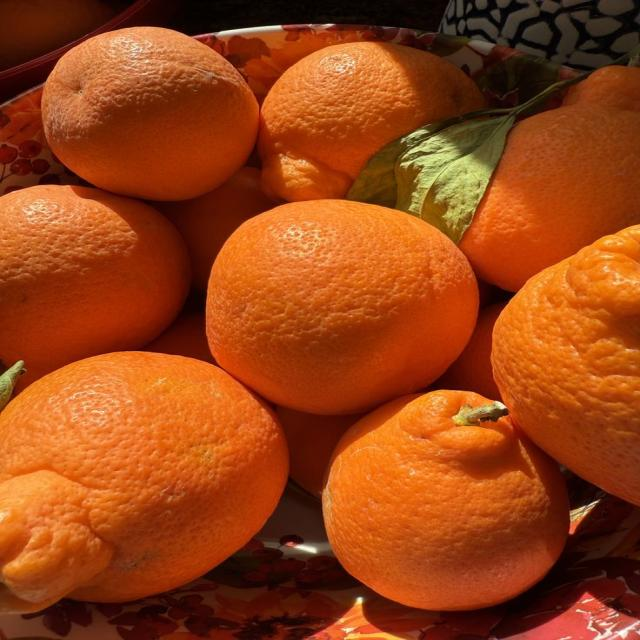orange: (0, 352, 287, 612), (207, 199, 478, 414), (323, 391, 568, 610), (493, 226, 639, 504), (460, 69, 639, 291), (0, 186, 190, 386), (42, 27, 258, 200), (259, 42, 485, 200), (153, 166, 276, 291), (0, 0, 125, 71), (275, 406, 362, 498), (435, 301, 506, 399), (142, 309, 215, 364), (562, 65, 639, 112)
